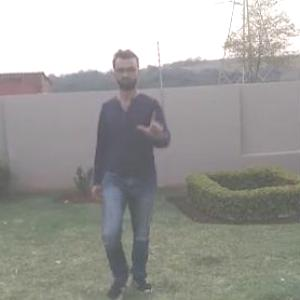land_hand: (133, 95, 172, 139)
